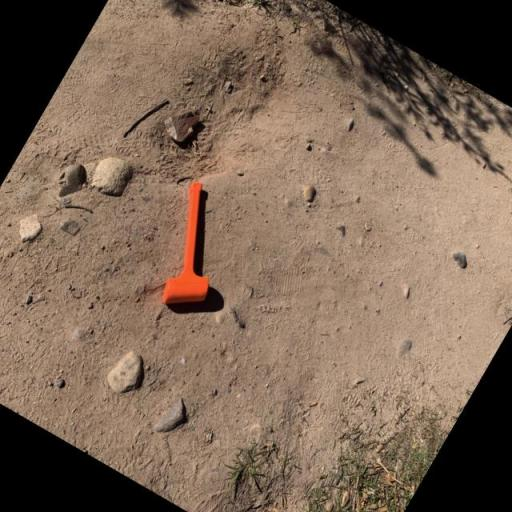mallet: (132, 178, 254, 320)
